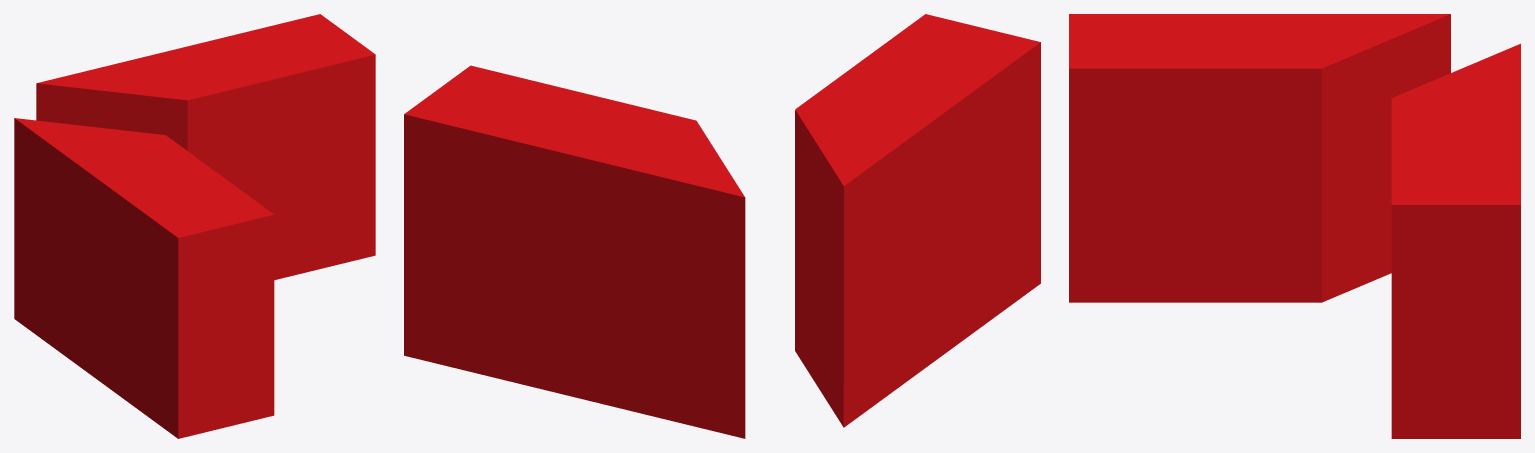
3 views of the same model, side by side, from view 1: azimuth 30°, elevation 25°; view 2: azimuth 150°, elevation 25°; view 3: azimuth 270°, elevation 25° (orthographic). The views are drawn at different scales.
Parts seen in each view (by area): view 1: Cube.015; view 2: Cube.015; view 3: Cube.015.
Part boxes in pixels (x1,y1,x2,y2): Cube.015: (14,14,375,438); Cube.015: (404,14,1040,438); Cube.015: (1069,14,1520,438).
Size of the model in its own units: 350 by 200 by 350.
